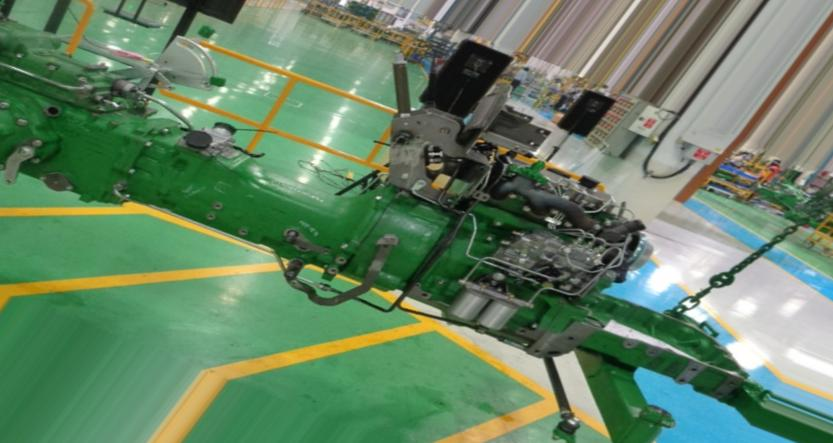engine: (0, 22, 825, 438)
